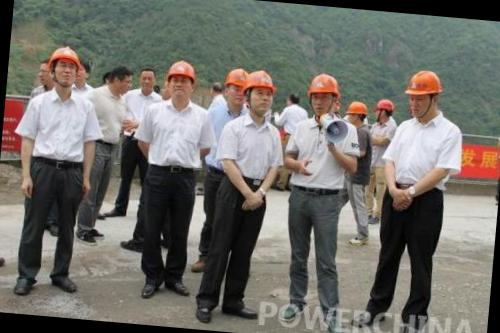no_helmet: (99, 60, 135, 96), (34, 58, 57, 95), (135, 66, 158, 94), (72, 58, 94, 87), (282, 90, 304, 110), (204, 78, 224, 100)
